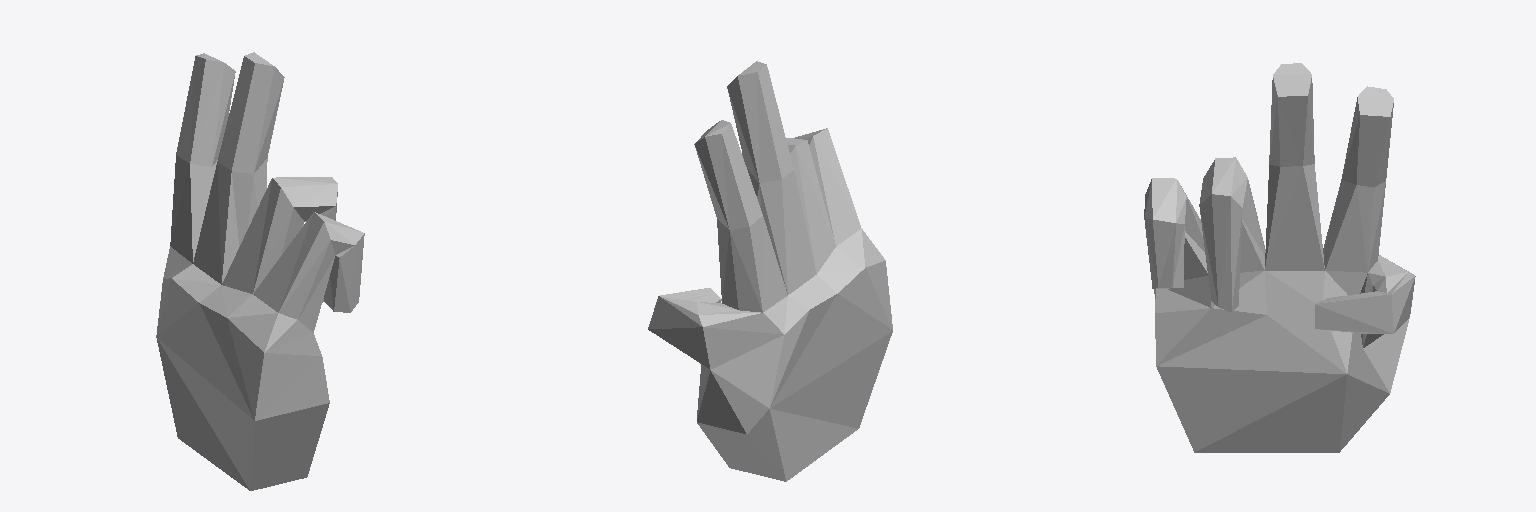
File: hand_two.obj
3 views of the same model, side by side, from view 1: azimuth 30°, elevation 25°; view 2: azimuth 150°, elevation 25°; view 3: azimuth 270°, elevation 25° (orthographic).
Parts seen in each view (by area): view 1: Two_Cube.002; view 2: Two_Cube.002; view 3: Two_Cube.002.
Part boxes in pixels (bbox=[...]): Two_Cube.002: bbox=[156, 52, 364, 490]; Two_Cube.002: bbox=[648, 61, 892, 481]; Two_Cube.002: bbox=[1144, 63, 1415, 452].
Size of the model in its own units: 2.91 by 8.47 by 5.42.